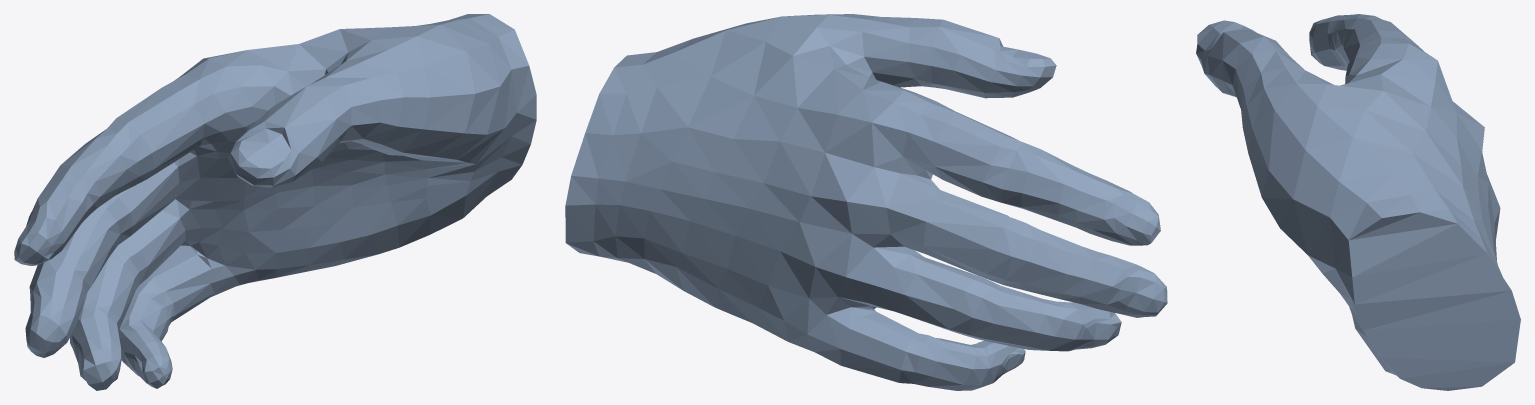
File: frame_00009_0.obj
3 views of the same model, side by side, from view 1: azimuth 30°, elevation 25°; view 2: azimuth 150°, elevation 25°; view 3: azimuth 270°, elevation 25° (orthographic). The views are drawn at different scales.
Bounding box in the file's own units: 0.1766 × 0.0965 × 0.0931.
